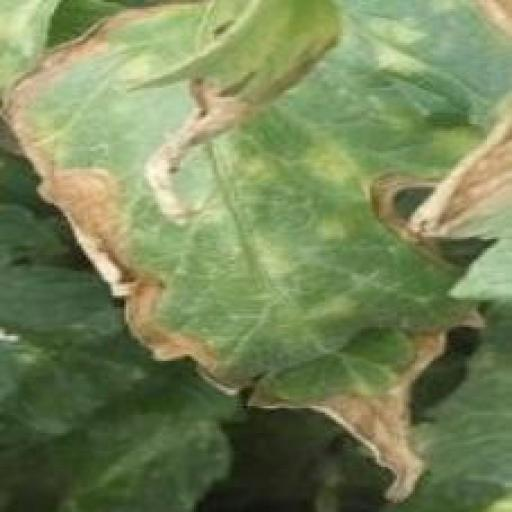disease_tomato: (0, 0, 512, 502)
